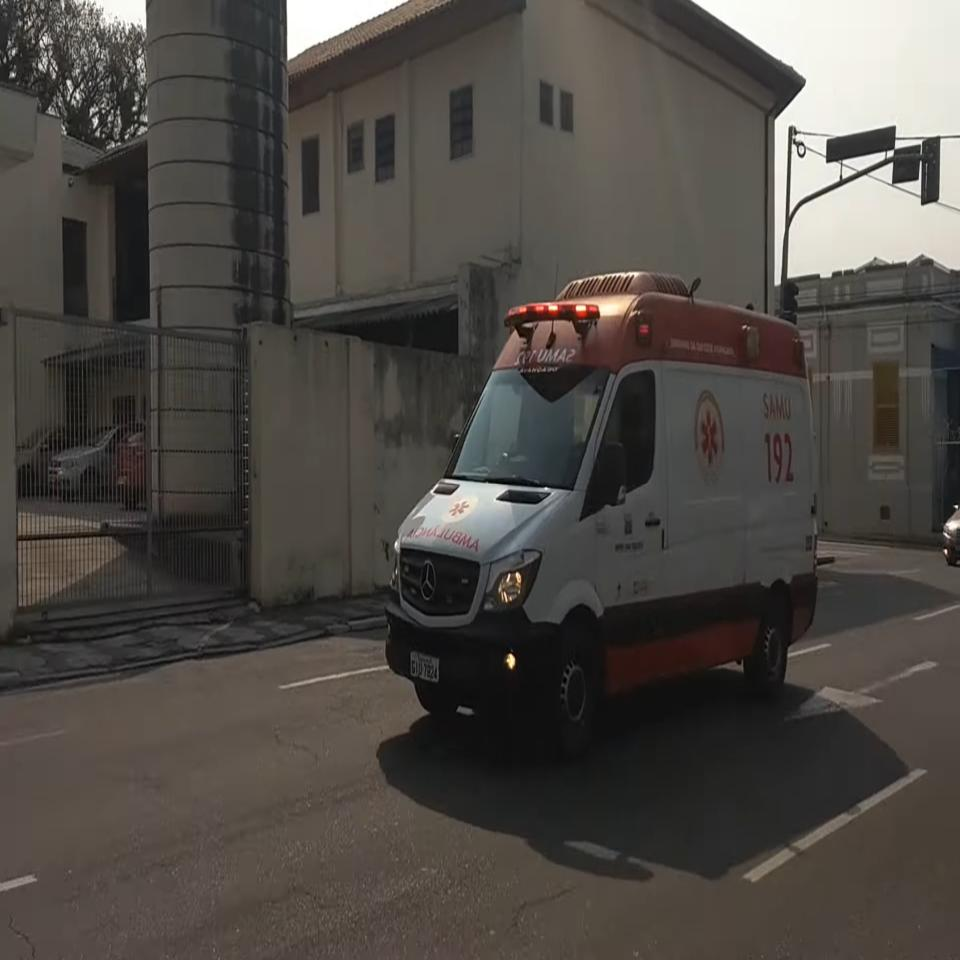bombeiro: (387, 270, 826, 762)
